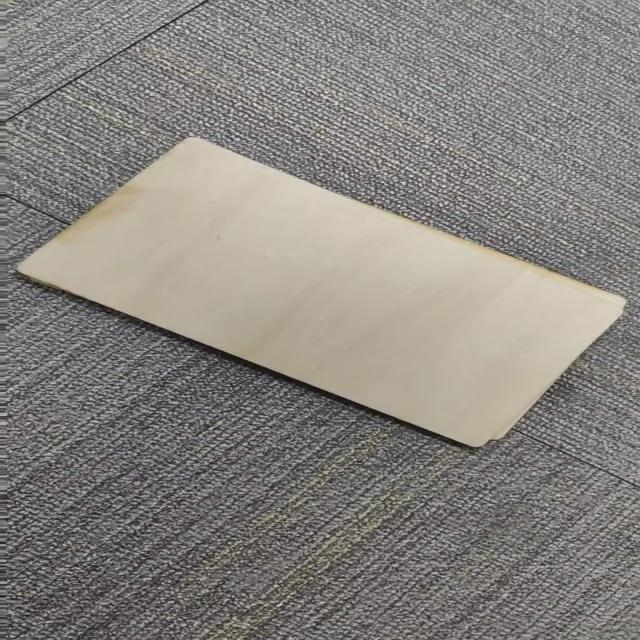carton: (18, 138, 624, 446)
